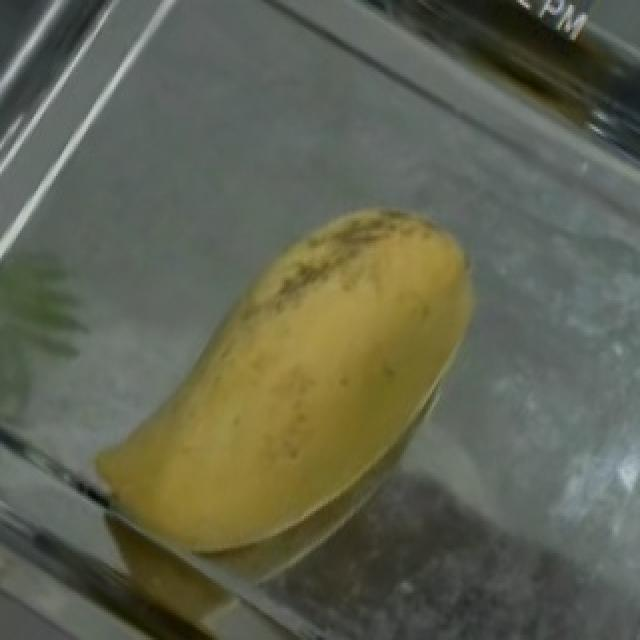fruit: (180, 136, 542, 544)
